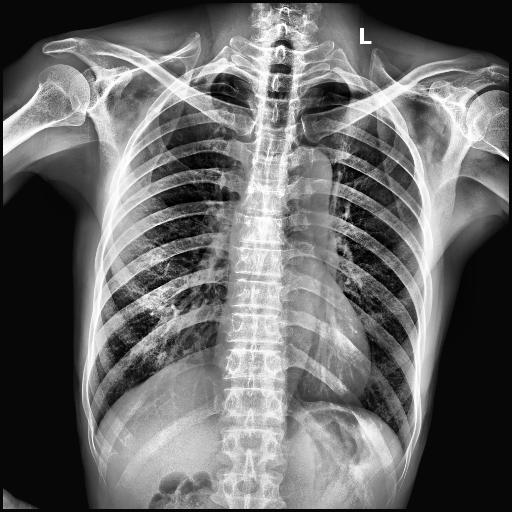0- Aortic enlargement: (283, 143, 334, 227), (282, 144, 332, 202), (288, 146, 332, 190)
11- Pleural thickening: (346, 82, 372, 92)
7- Lung Opacity: (218, 72, 234, 100), (335, 84, 357, 94)
9- Other lesion: (218, 72, 234, 100)
